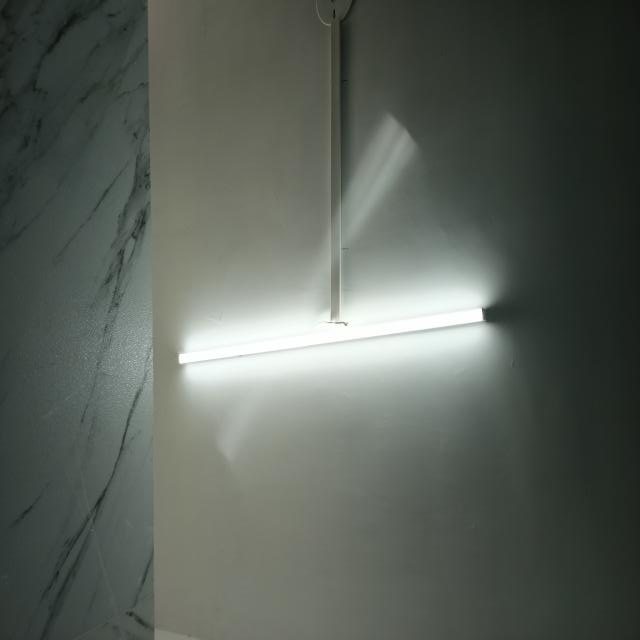fluorescent tube: (168, 300, 496, 376)
